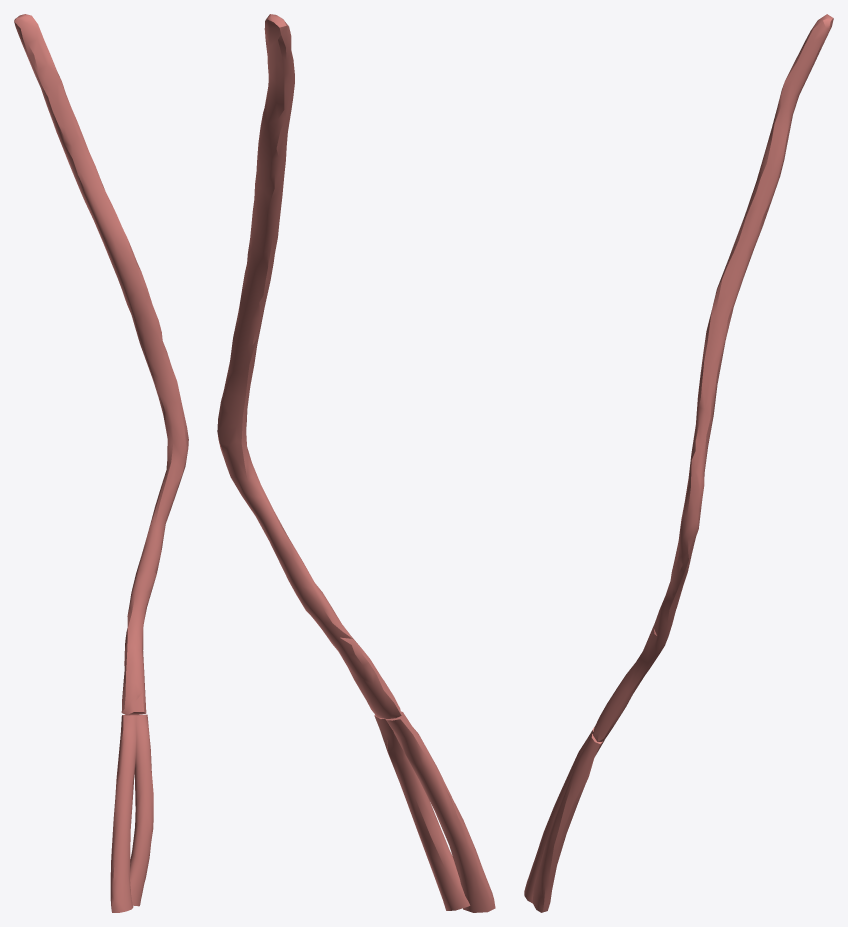
File: fma42560_mm1967m.glb
3 views of the same model, side by side, from view 1: azimuth 30°, elevation 25°; view 2: azimuth 150°, elevation 25°; view 3: azimuth 270°, elevation 25° (orthographic). The views are drawn at different scales.
Visible parts, largest first — view 1: FMA42560_MM1967M; view 2: FMA42560_MM1967M; view 3: FMA42560_MM1967M.
Boxes of the visible parts, x1,y1,x2,y2 form: FMA42560_MM1967M: [14, 14, 188, 912]; FMA42560_MM1967M: [217, 14, 495, 912]; FMA42560_MM1967M: [524, 14, 833, 912].
Bounding box in the file's own units: 0.0341 × 0.1765 × 0.0549.
